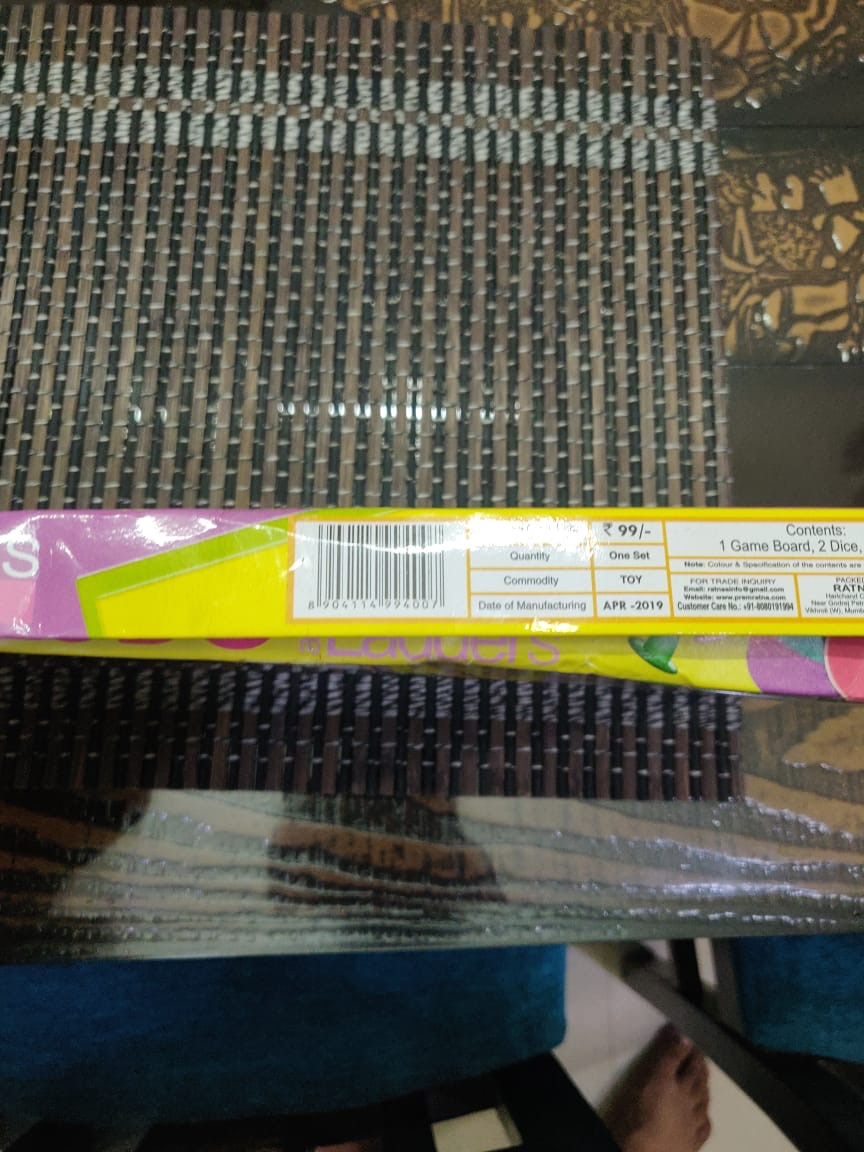barcode: (298, 527, 452, 620)
